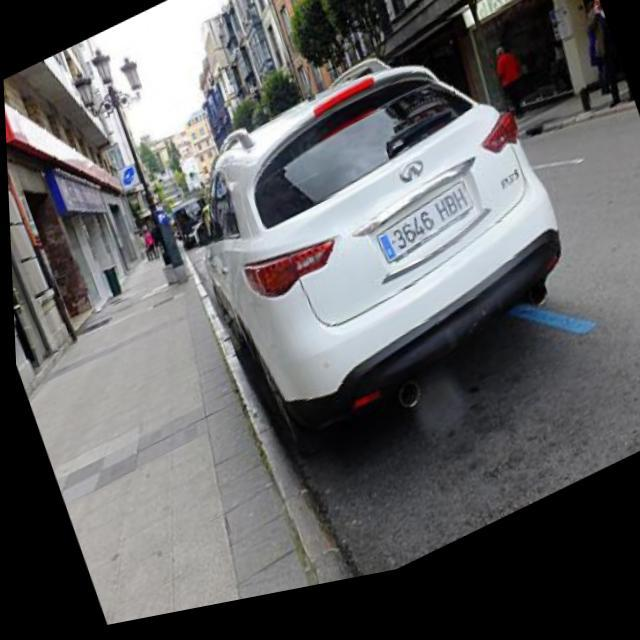license_plate: (368, 195, 478, 284)
